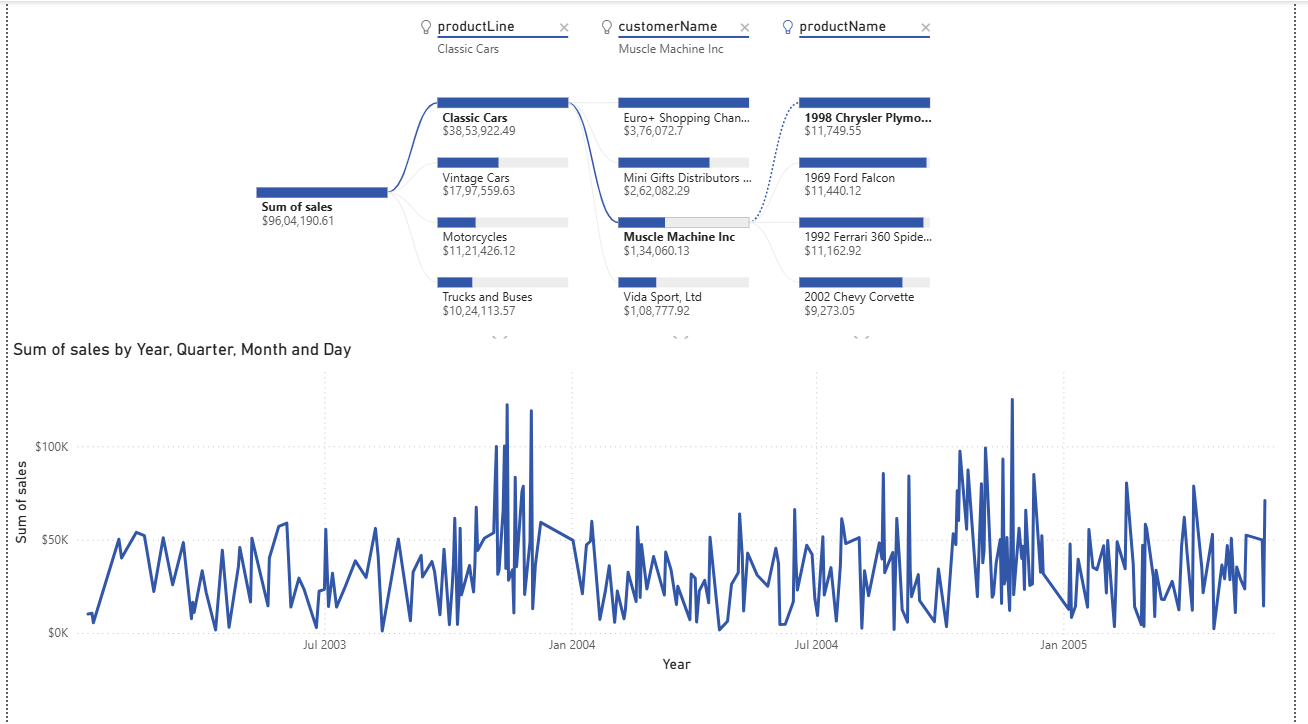

Layout of this report page (visuals, bound fields, positions):
{"tool":"powerbi","page":{"name":"Page 3","canvas":[1280,720],"ordinal":3},"visuals":[{"type":"decompositionTreeVisual","fields":{"ExplainBy":["product lines.productLine","customers.customerName","products.productName"],"Analyze":["Sum(order details.sales)"]},"box":[0,0,1280,359.5],"z":0},{"type":"lineChart","fields":{"Y":["Sum(order details.sales)"],"Category":["orders.orderDate.Variation.Date Hierarchy.Year","orders.orderDate.Variation.Date Hierarchy.Quarter","orders.orderDate.Variation.Date Hierarchy.Month","orders.orderDate.Variation.Date Hierarchy.Day"]},"box":[0,335.9,1280,337.1],"z":2000}]}

Visuals, with their boxes in screenshot pixels (x1, y1, x2, y2), scaled from the page's 1280x720 canvas onto the 1308x724 screenshot:
decompositionTreeVisual - product lines.productLine x customers.customerName: [left=0, top=0, right=1307, bottom=361]
lineChart - Sum(order details.sales) x orders.orderDate.Variation.Date Hierarchy.Year: [left=0, top=338, right=1307, bottom=677]
